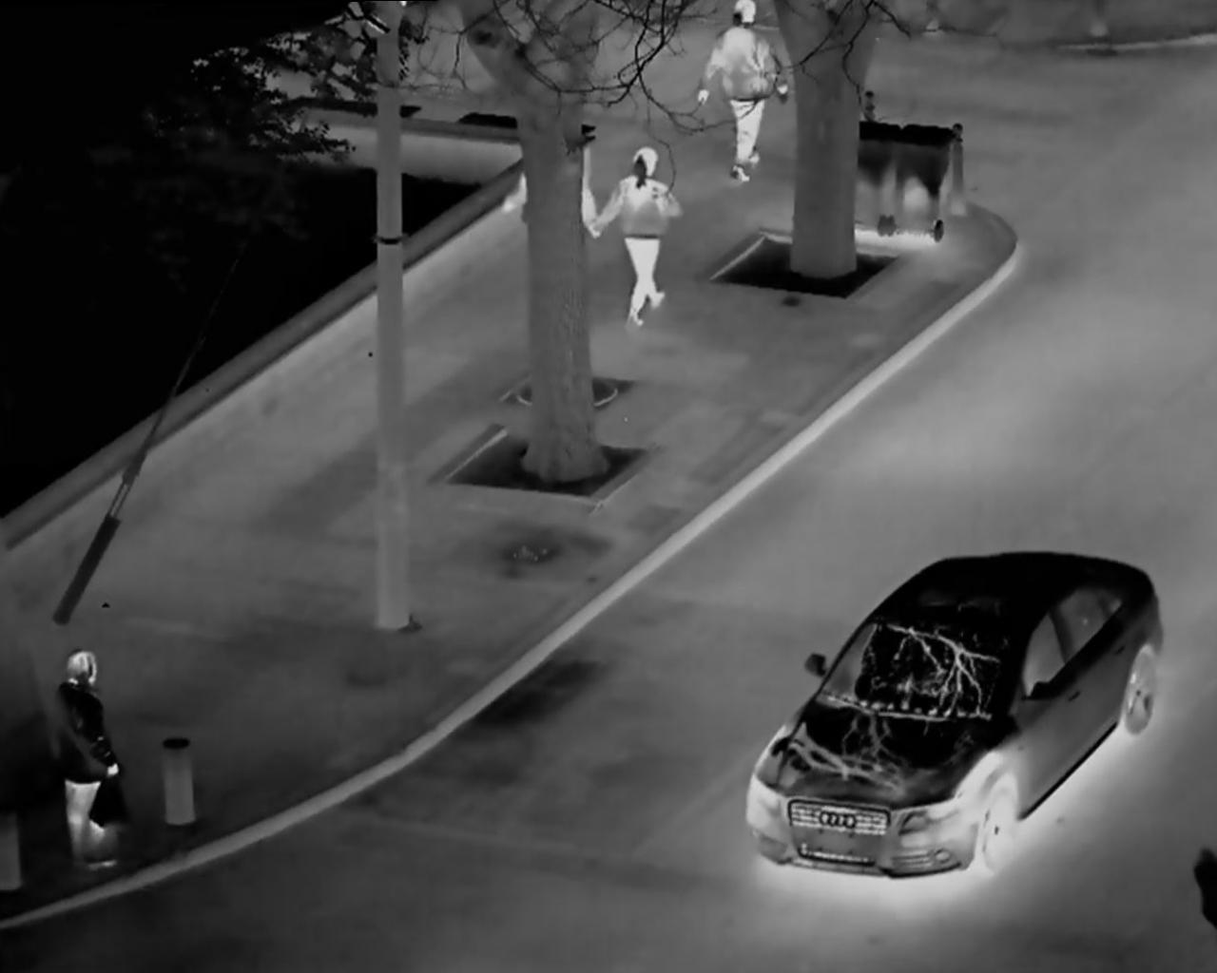person: (48, 639, 128, 881), (607, 133, 687, 344), (703, 4, 791, 195)
